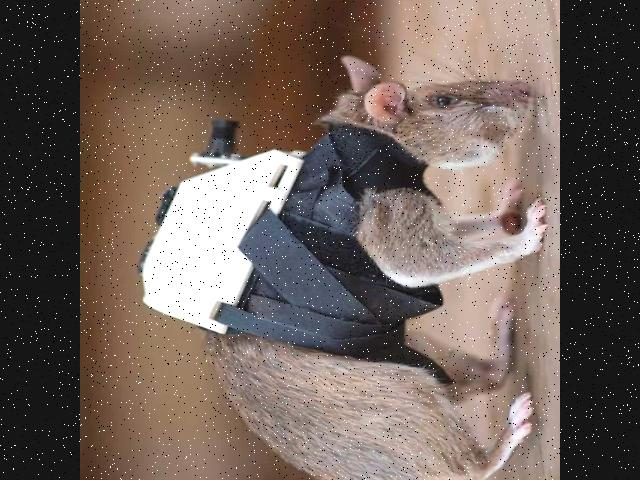Tikus: (242, 50, 548, 480)
